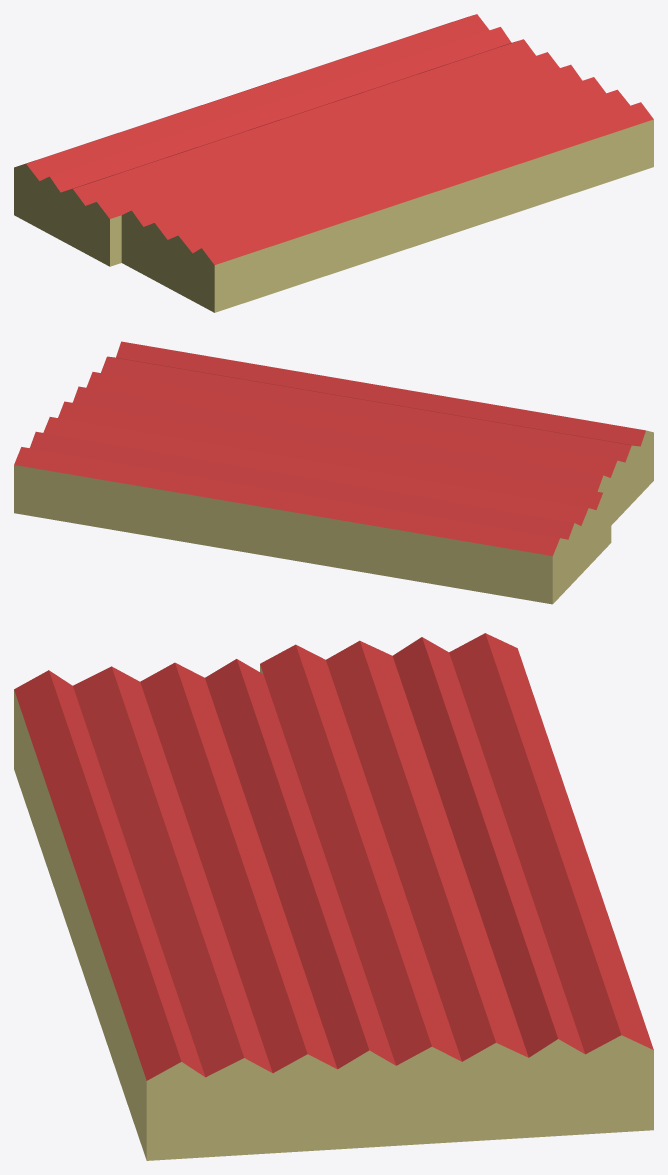
The picture shows the model from 3 angles, top to bottom: view 1: azimuth 30°, elevation 25°; view 2: azimuth 150°, elevation 25°; view 3: azimuth 270°, elevation 25°; orthographic projection. The views are drawn at different scales.
Bounding box in the file's own units: 77.98 × 48.74 × 8.16.
